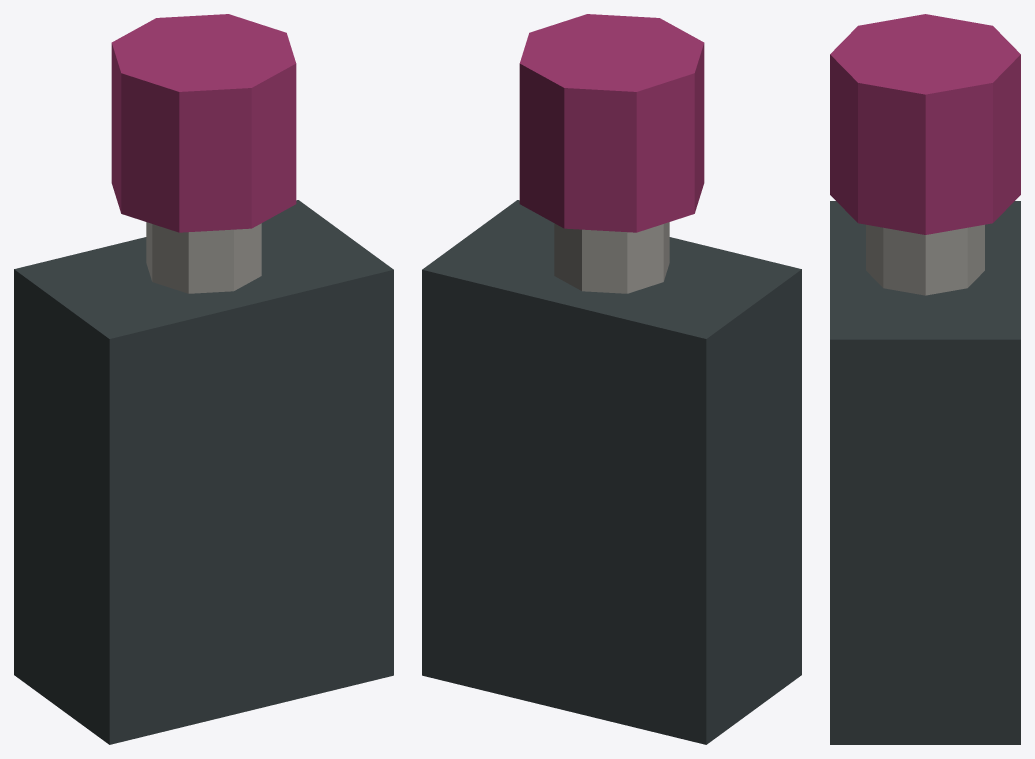
The model's file is perfume-bottle.glb.
3 views of the same model, side by side, from view 1: azimuth 30°, elevation 25°; view 2: azimuth 150°, elevation 25°; view 3: azimuth 270°, elevation 25° (orthographic).
Visible parts, largest first — view 1: glass, accent-magenta, brushed; view 2: glass, accent-magenta, brushed; view 3: glass, accent-magenta, brushed.
Boxes of the visible parts, left/top/right/bottom form: glass: left=14, top=200, right=393, bottom=744; accent-magenta: left=111, top=14, right=296, bottom=232; brushed: left=146, top=222, right=261, bottom=293; glass: left=422, top=200, right=801, bottom=744; accent-magenta: left=519, top=14, right=704, bottom=232; brushed: left=554, top=222, right=669, bottom=293; glass: left=830, top=201, right=1020, bottom=744; accent-magenta: left=830, top=14, right=1020, bottom=234; brushed: left=866, top=224, right=984, bottom=295.
Size of the model in its own units: 0.055 by 0.115 by 0.032.
